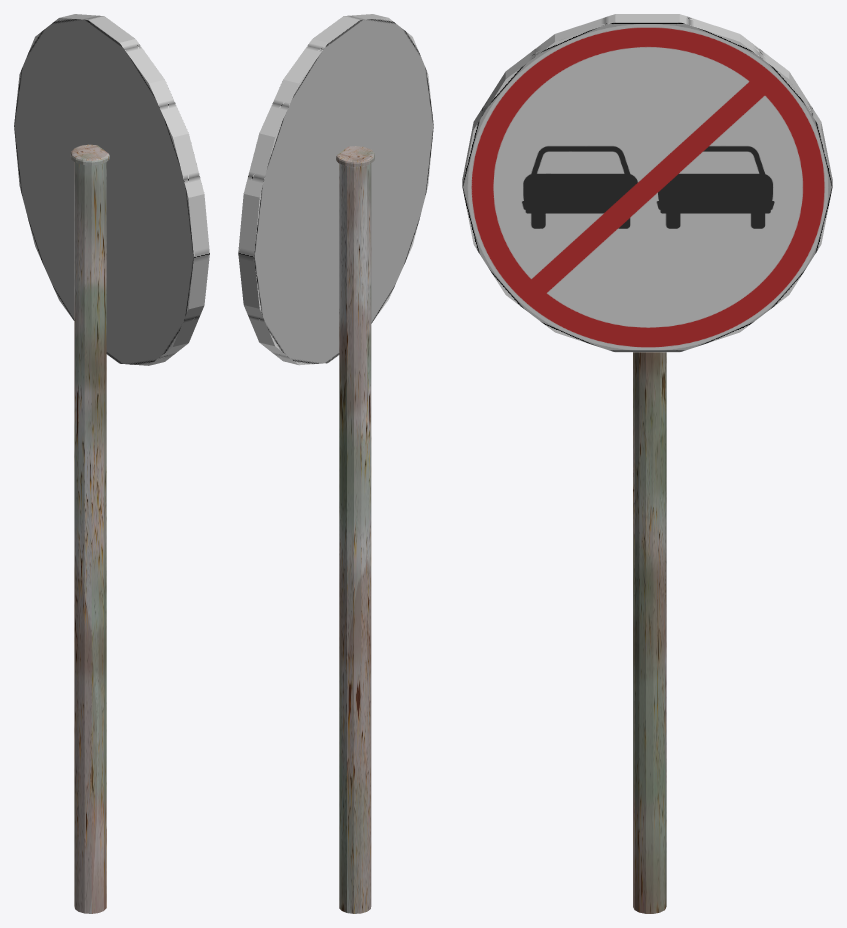
File: noovertake.fbx
3 renders of one model, left to right at view 1: azimuth 30°, elevation 25°; view 2: azimuth 150°, elevation 25°; view 3: azimuth 270°, elevation 25°, orthographic. The views are drawn at different scales.
Parts seen in each view (by area): view 1: Cylinder.001; view 2: Cylinder.001; view 3: Cylinder.001.
Boxes of the visible parts, x1,y1,x2,y2 form: Cylinder.001: (14,14,209,913); Cylinder.001: (238,14,433,913); Cylinder.001: (462,14,832,913).
Size of the model in its own units: 15.3 by 282 by 105.
Materials: 2 (2 with a texture image).
